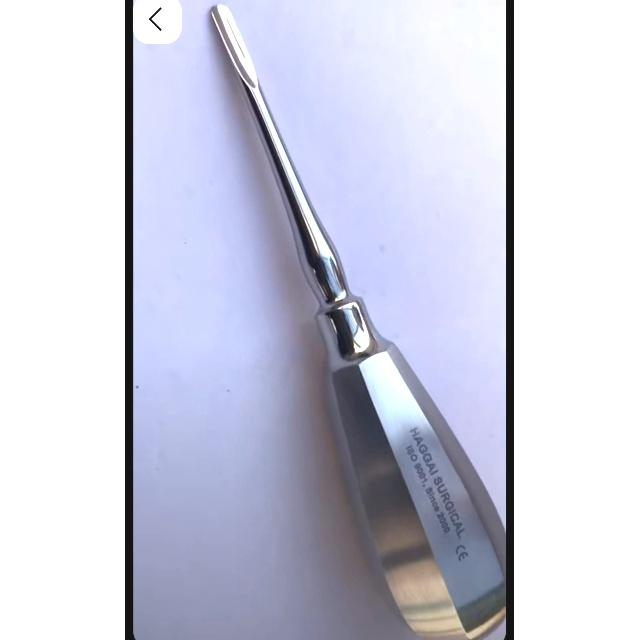botador: (205, 5, 508, 639)
